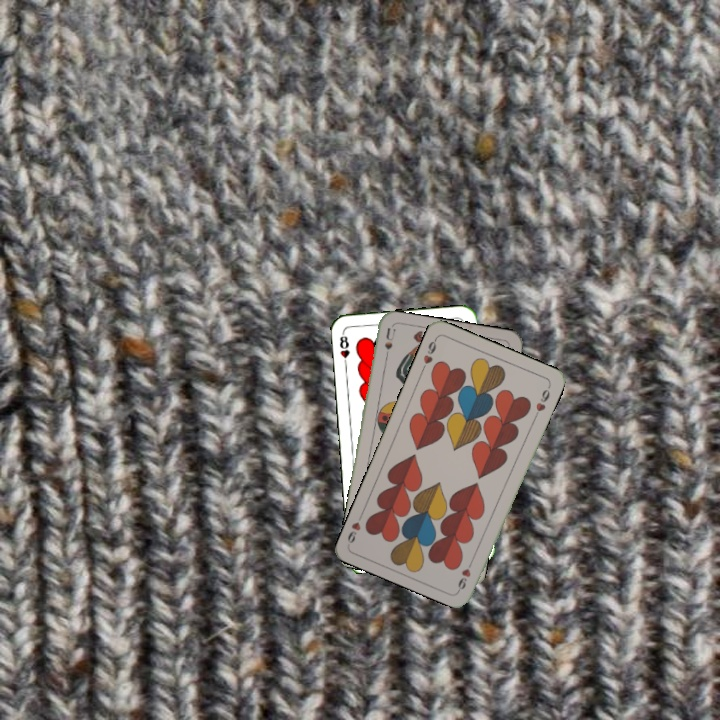H8: (335, 328, 352, 369)
H9: (454, 554, 477, 593), (418, 334, 440, 373)
SU: (381, 325, 398, 366)
